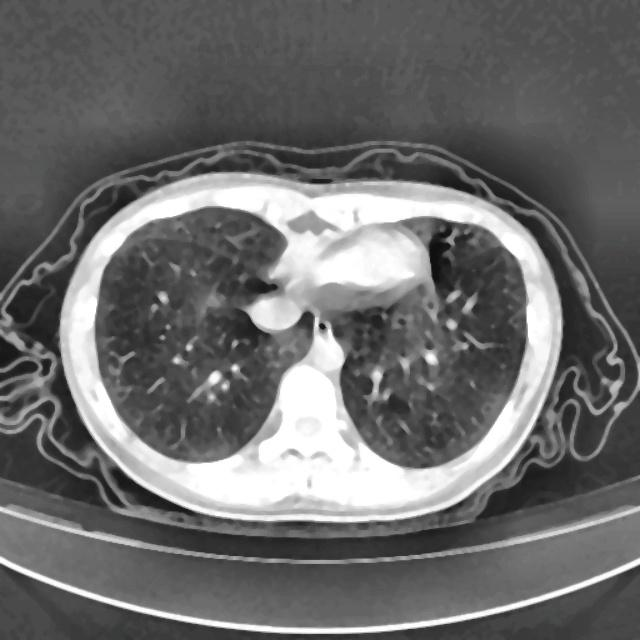covid: (59, 172, 564, 524)
